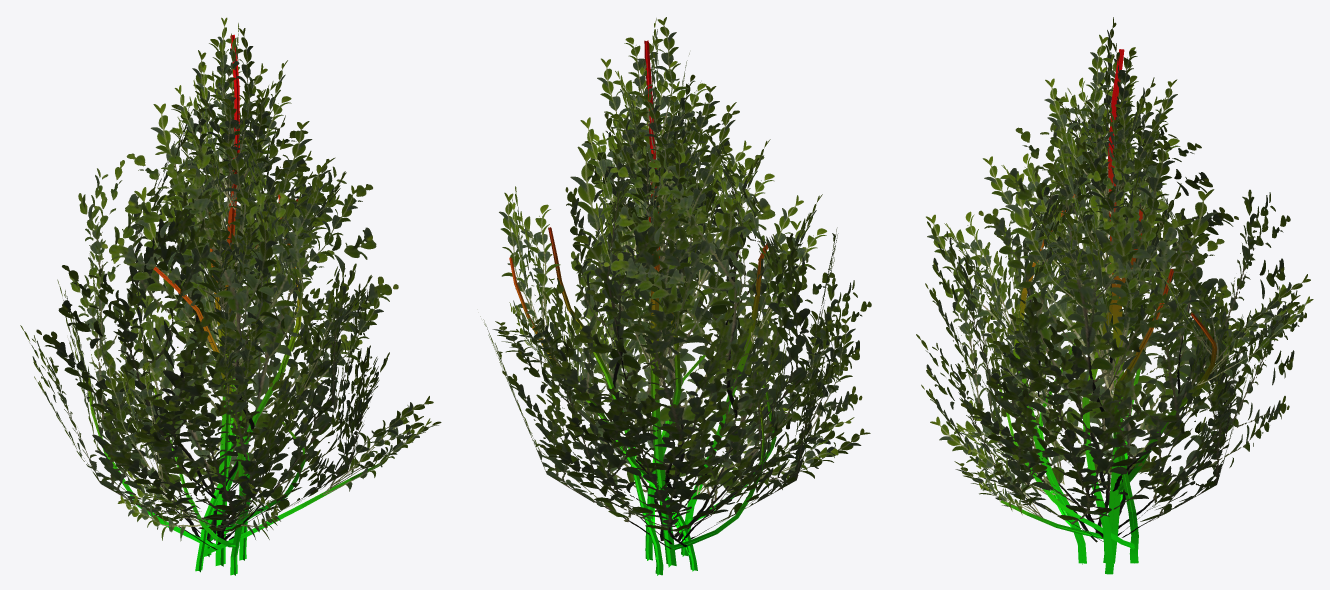
Rendered from W_shrub_B_L1.fbx.
3 renders of one model, left to right at view 1: azimuth 30°, elevation 25°; view 2: azimuth 150°, elevation 25°; view 3: azimuth 270°, elevation 25°, orthographic.
Visible parts, largest first — view 1: W_shrub_B_L1; view 2: W_shrub_B_L1; view 3: W_shrub_B_L1.
Boxes of the visible parts, bbox=[...] form: W_shrub_B_L1: bbox=[20, 17, 441, 575]; W_shrub_B_L1: bbox=[480, 17, 871, 575]; W_shrub_B_L1: bbox=[916, 17, 1313, 574].
Size of the model in its own units: 1.23 by 1.86 by 1.26.
